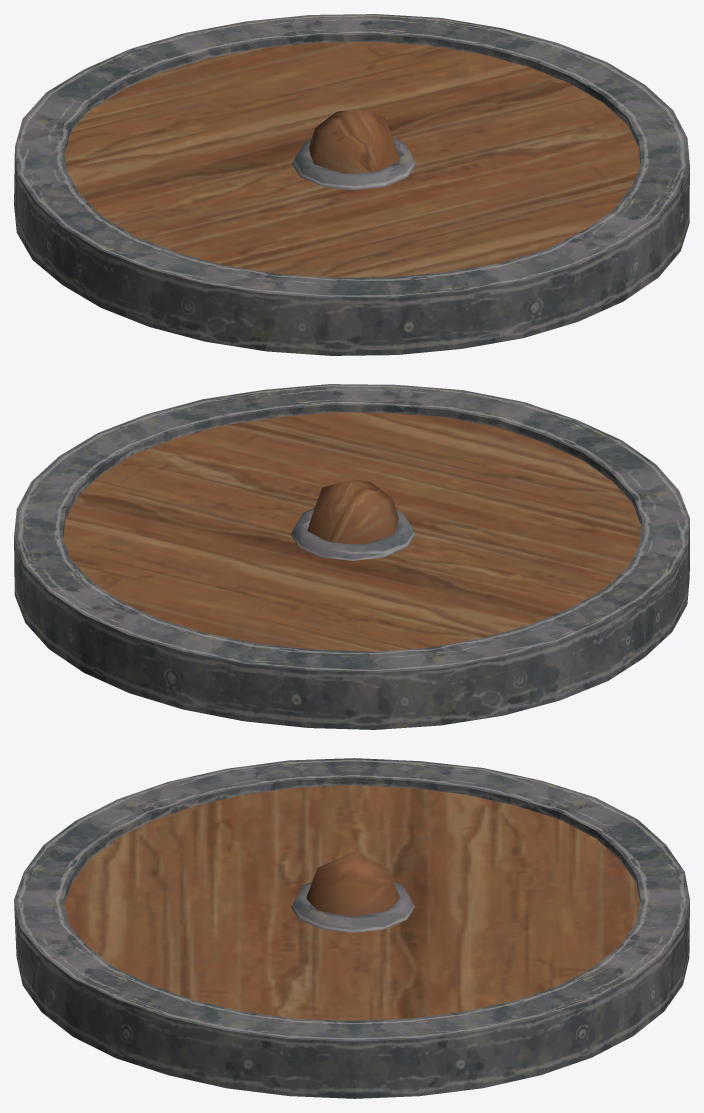
File: SM_Farm_FoodContainer_Lid_03.fbx
3 renders of one model, top to bottom at view 1: azimuth 30°, elevation 25°; view 2: azimuth 150°, elevation 25°; view 3: azimuth 270°, elevation 25°, orthographic.
Parts seen in each view (by area): view 1: SM_Farm_FoodContainer_Lid_03_LOD0; view 2: SM_Farm_FoodContainer_Lid_03_LOD0; view 3: SM_Farm_FoodContainer_Lid_03_LOD0.
Part boxes in pixels (x1,y1,x2,y2): SM_Farm_FoodContainer_Lid_03_LOD0: [14, 14, 689, 355]; SM_Farm_FoodContainer_Lid_03_LOD0: [14, 384, 689, 729]; SM_Farm_FoodContainer_Lid_03_LOD0: [14, 758, 689, 1098].
Size of the model in its own units: 56.73 by 9.83 by 57.18.
